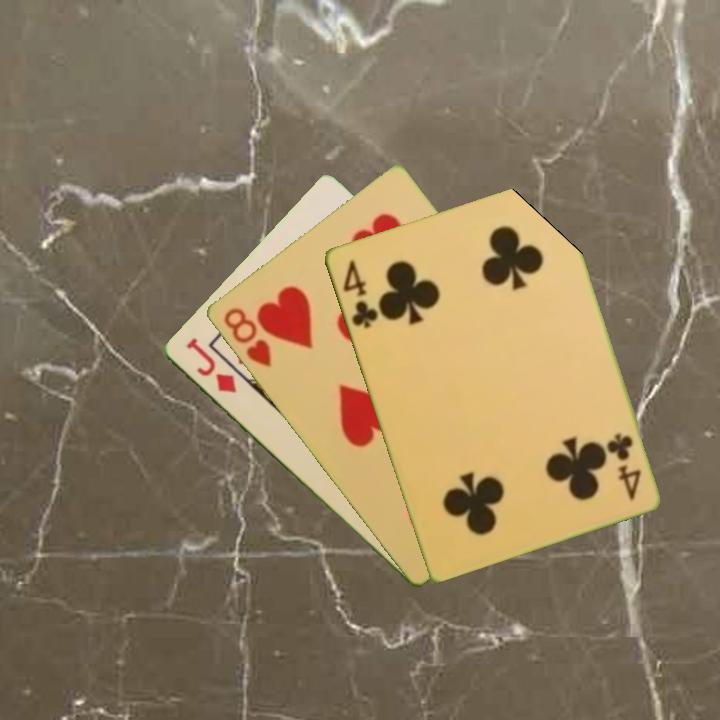4c: (338, 255, 381, 331), (604, 429, 644, 504)
8h: (219, 304, 274, 370)
Jd: (182, 333, 240, 396)
